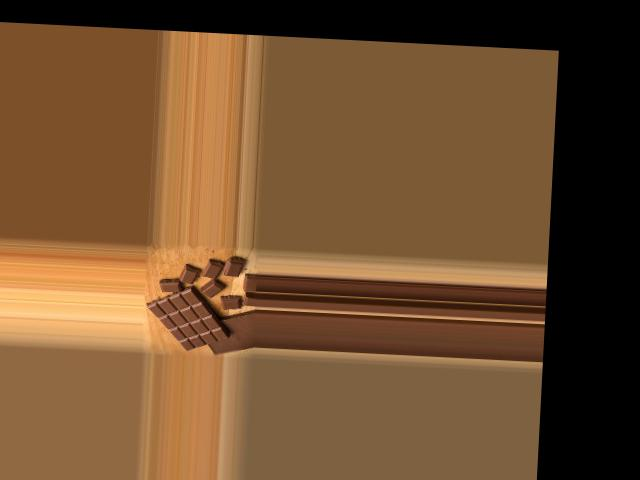chocolate: (147, 280, 232, 353)
